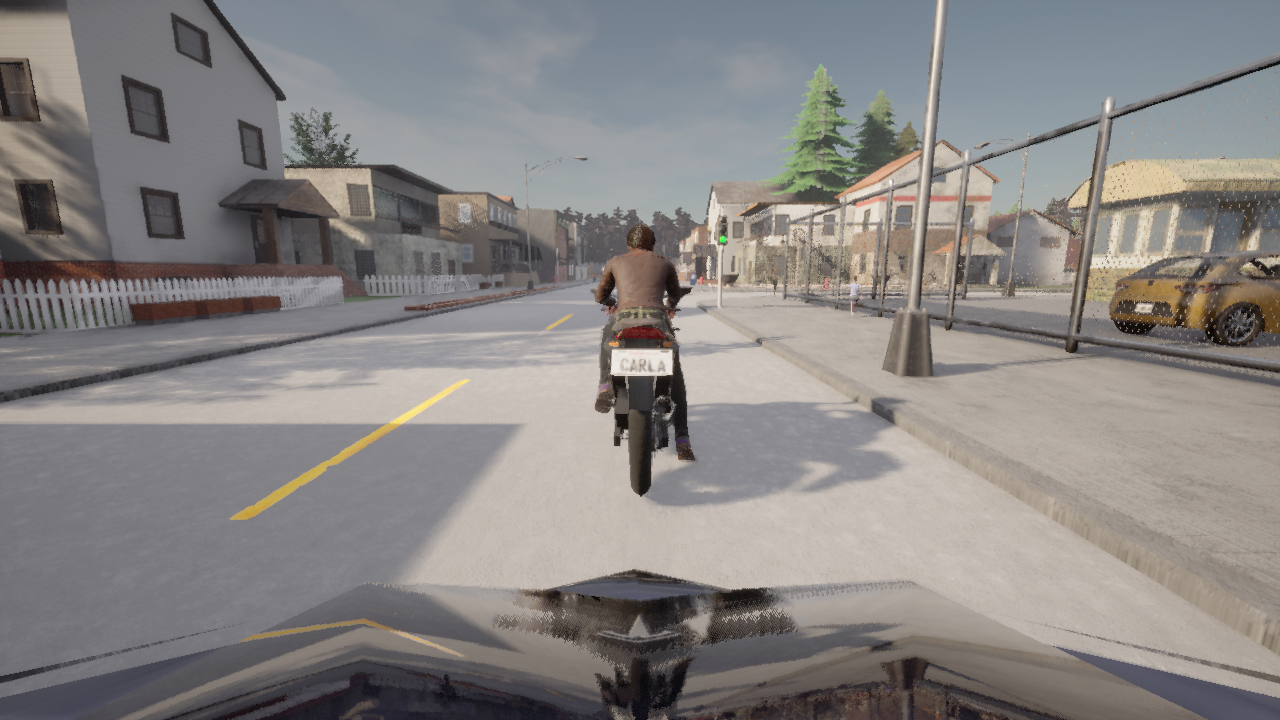cyclist: (0, 569, 1279, 719), (589, 286, 691, 495), (1109, 250, 1279, 346), (921, 273, 943, 292)
pedestrian: (845, 275, 862, 318), (769, 261, 780, 295)
